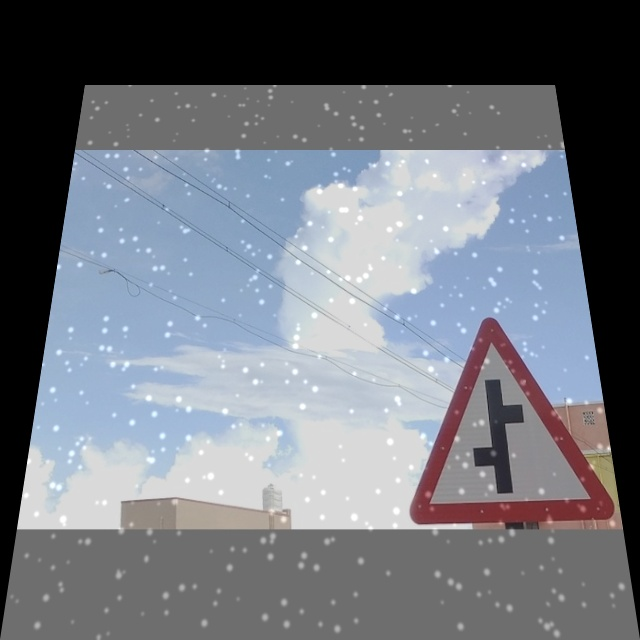Staggered_Intersection: (389, 318, 611, 516)
